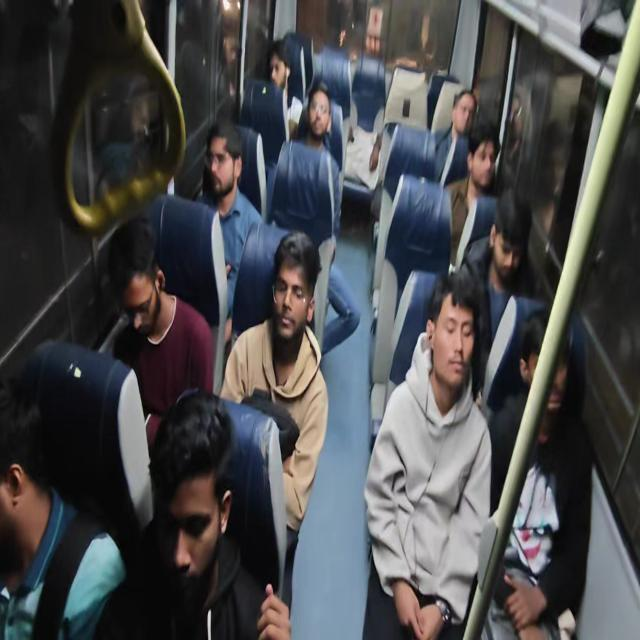person: (5, 4, 595, 638), (92, 387, 291, 639), (362, 269, 492, 638), (219, 229, 329, 607), (479, 315, 593, 638), (0, 386, 127, 639), (17, 338, 154, 556), (107, 214, 214, 453), (460, 187, 547, 396), (194, 120, 263, 338), (290, 82, 342, 250), (444, 123, 499, 269), (434, 88, 477, 186), (266, 38, 302, 142), (214, 8, 242, 122), (294, 82, 332, 151)
